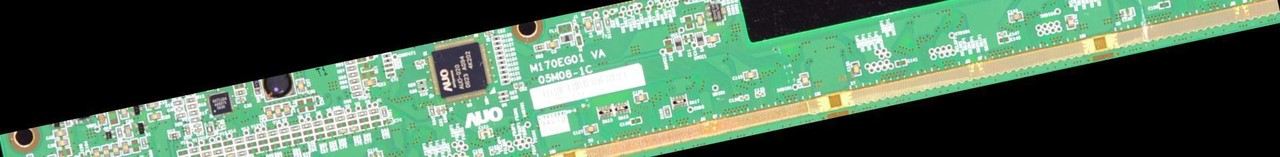Capacitor: (663, 38, 675, 54), (147, 111, 163, 123), (110, 142, 123, 156), (119, 140, 131, 155), (743, 69, 758, 81), (545, 39, 561, 50), (97, 112, 109, 126), (130, 138, 141, 153), (1009, 11, 1024, 22), (800, 72, 811, 87), (1120, 7, 1135, 18), (53, 128, 68, 139), (582, 17, 593, 32), (694, 13, 705, 28), (683, 15, 694, 30), (272, 103, 283, 118), (633, 93, 649, 103), (54, 138, 70, 148), (123, 122, 133, 138), (706, 33, 720, 44), (851, 62, 862, 76), (584, 123, 598, 134), (281, 101, 292, 115), (296, 99, 307, 113), (296, 78, 306, 93), (56, 147, 71, 157), (306, 96, 316, 111), (264, 105, 274, 120), (145, 101, 161, 110), (1066, 14, 1076, 28), (101, 144, 112, 156), (119, 107, 130, 119), (90, 146, 103, 156), (292, 136, 304, 144), (369, 150, 385, 156), (895, 59, 907, 67), (630, 117, 642, 125), (371, 119, 382, 127), (270, 142, 281, 150), (259, 144, 270, 152), (1159, 1, 1170, 9), (415, 58, 426, 66), (336, 127, 348, 134), (348, 125, 360, 132), (999, 36, 1011, 43), (192, 127, 204, 134), (326, 129, 336, 137), (175, 105, 185, 113), (382, 118, 393, 125), (304, 135, 315, 142), (281, 140, 292, 147), (755, 90, 766, 97), (236, 96, 247, 103), (361, 123, 371, 130), (997, 31, 1007, 38), (64, 119, 72, 127), (514, 82, 523, 89), (485, 30, 494, 37), (741, 94, 750, 101), (387, 70, 396, 77), (683, 34, 689, 44), (316, 132, 326, 138), (440, 105, 446, 115), (435, 106, 441, 116), (225, 151, 236, 156), (688, 33, 694, 42), (84, 150, 92, 156), (186, 93, 196, 97), (213, 153, 225, 156), (78, 151, 85, 156), (172, 96, 182, 99)
IC: (425, 34, 497, 105), (206, 89, 234, 117)
Resistor: (107, 109, 120, 126), (204, 122, 216, 136), (363, 77, 378, 88), (379, 105, 389, 119), (185, 95, 198, 103), (533, 43, 546, 51), (184, 123, 192, 136), (367, 107, 379, 115), (312, 119, 324, 127), (290, 124, 302, 132), (278, 126, 290, 134), (233, 136, 245, 144), (177, 148, 189, 156), (324, 124, 336, 132), (663, 105, 671, 117), (346, 64, 358, 72), (234, 89, 246, 97), (347, 71, 359, 79), (604, 16, 612, 28), (188, 109, 200, 117), (168, 131, 180, 139), (344, 59, 357, 66), (334, 114, 345, 122), (357, 109, 368, 117), (323, 117, 334, 125), (245, 134, 256, 142), (200, 144, 211, 152), (428, 105, 436, 116), (350, 83, 361, 91), (346, 119, 358, 126), (235, 143, 247, 150), (236, 149, 248, 156), (190, 115, 202, 122), (302, 121, 312, 129), (190, 146, 200, 154), (314, 125, 324, 133), (257, 138, 267, 146), (174, 99, 184, 107), (176, 111, 186, 119), (140, 137, 147, 148), (346, 112, 357, 119), (223, 139, 234, 146), (256, 132, 267, 139), (267, 129, 278, 136), (211, 142, 222, 149), (358, 116, 369, 123), (212, 147, 223, 154), (223, 145, 234, 152), (369, 114, 380, 121), (291, 131, 302, 138), (302, 129, 313, 136), (280, 134, 291, 141), (116, 127, 123, 138), (186, 103, 198, 109), (352, 91, 364, 97), (499, 68, 509, 75), (334, 108, 344, 115), (501, 78, 511, 85), (336, 121, 346, 128), (247, 141, 257, 148), (269, 136, 279, 143), (202, 150, 212, 157), (383, 56, 393, 63), (349, 78, 359, 85), (192, 121, 202, 128), (497, 64, 507, 70), (418, 85, 428, 91), (498, 91, 508, 97), (499, 96, 509, 102), (494, 50, 504, 56), (497, 59, 507, 65), (416, 79, 426, 85), (215, 120, 221, 130), (500, 73, 509, 79), (382, 52, 391, 58), (493, 40, 502, 46), (496, 54, 505, 60), (494, 45, 503, 50), (492, 36, 500, 41), (190, 153, 202, 156)
Transistor/Diode: (133, 120, 151, 136), (130, 104, 146, 117), (102, 128, 117, 141), (78, 115, 92, 125)
